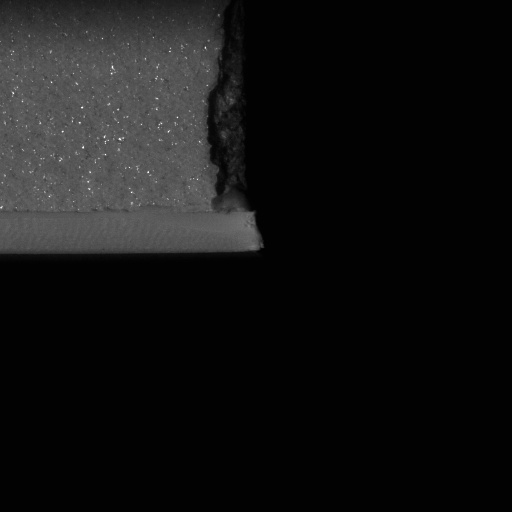bengque: (203, 6, 255, 216)
